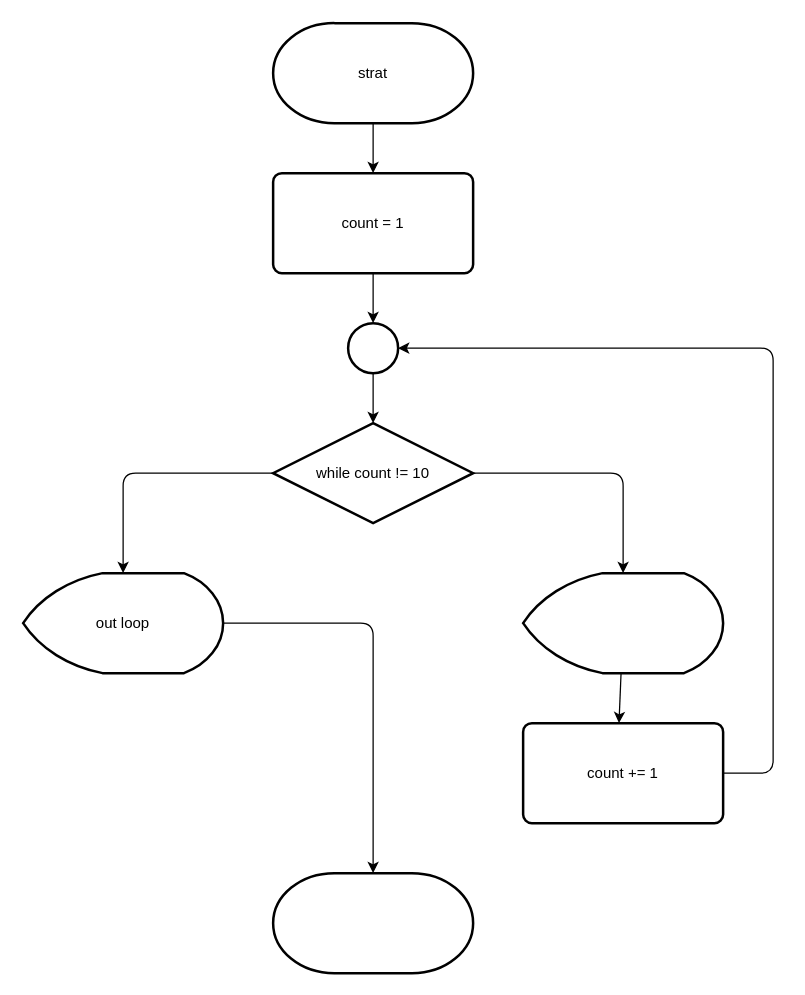
Image size: 805x995. Some labels were removed from this diagram. The shapes that lost their labels are listed below. From the top down, each one's centre as x and y in pixels, then its label:
the point at 622,622: Hello world
the point at 372,922: end
